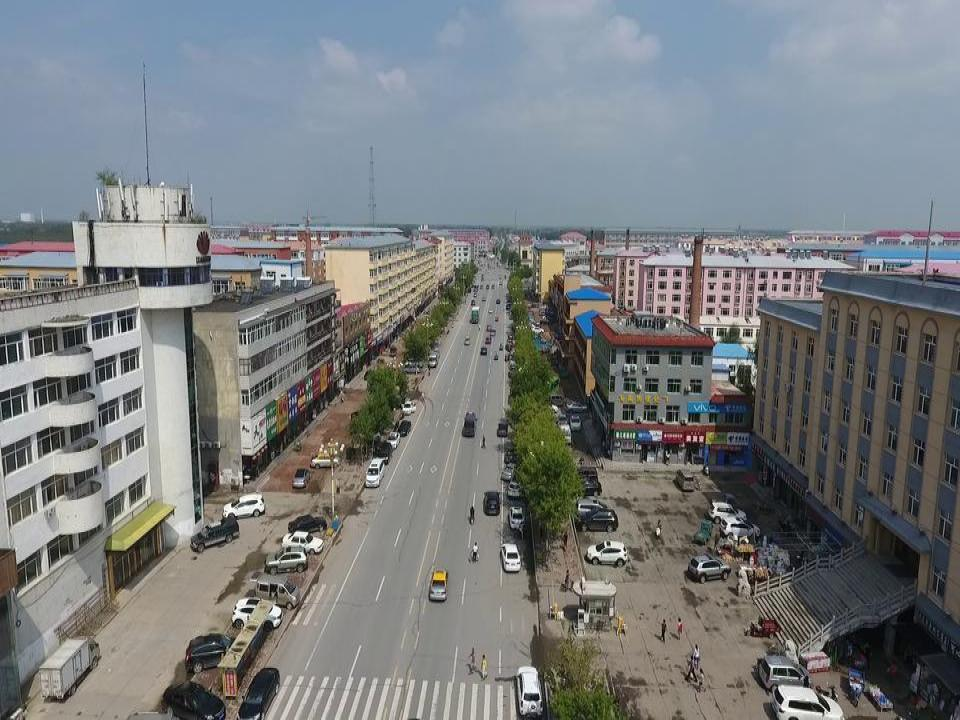bus: (539, 375, 560, 400)
car: (772, 684, 847, 720), (161, 680, 225, 720), (184, 633, 242, 675), (235, 666, 280, 720), (757, 655, 814, 693), (189, 516, 240, 553), (231, 597, 283, 632), (515, 666, 544, 718), (688, 552, 732, 584), (263, 545, 308, 576), (221, 493, 266, 520), (586, 540, 627, 568), (281, 531, 324, 557), (576, 507, 618, 533), (719, 516, 761, 541), (707, 501, 747, 524), (287, 513, 327, 536), (566, 465, 598, 487), (428, 568, 449, 601), (569, 478, 602, 498), (500, 543, 522, 572), (506, 469, 526, 500), (310, 451, 341, 469), (373, 440, 393, 465), (508, 506, 526, 530), (483, 490, 501, 514), (292, 467, 312, 488), (500, 461, 519, 483), (565, 400, 588, 413), (504, 446, 519, 465), (396, 420, 412, 437), (385, 431, 400, 449), (569, 412, 582, 432), (400, 400, 417, 415), (404, 354, 424, 366), (538, 402, 558, 413), (401, 364, 420, 375), (556, 412, 569, 427), (497, 422, 509, 437), (363, 368, 373, 381), (530, 326, 545, 334), (479, 345, 488, 356), (484, 336, 492, 344), (489, 328, 496, 337), (464, 335, 470, 345), (486, 324, 492, 331), (488, 307, 492, 313)
truck: (38, 636, 101, 700), (711, 492, 737, 512), (558, 422, 572, 446), (470, 305, 480, 324), (389, 344, 398, 356)
van: (247, 570, 300, 610), (573, 498, 611, 523), (365, 457, 385, 488), (675, 468, 695, 492), (461, 411, 478, 437), (548, 392, 567, 407), (427, 349, 439, 368)
